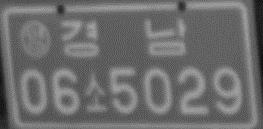0: (18, 68, 48, 117), (144, 66, 172, 115)
2: (177, 67, 210, 117)
5: (109, 65, 138, 115)
6: (50, 67, 81, 116)
9: (213, 66, 243, 116)
경남_D: (60, 14, 188, 60)
소: (82, 71, 109, 115)
영: (18, 19, 53, 60)
